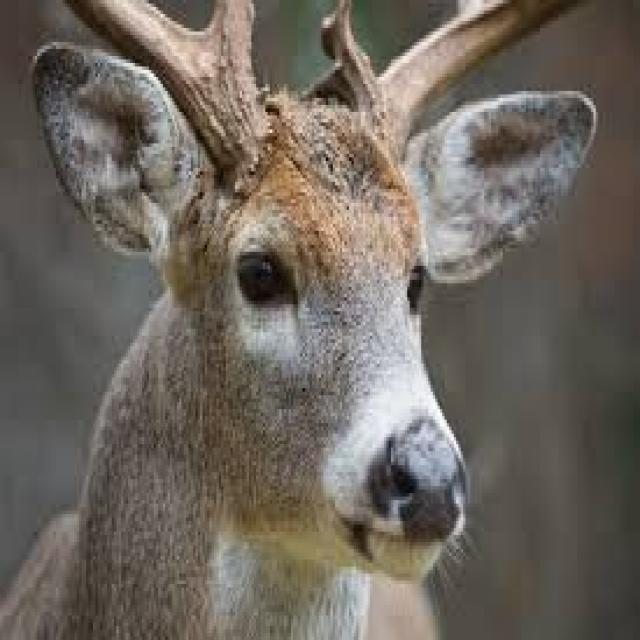Deer: (0, 0, 602, 640)
